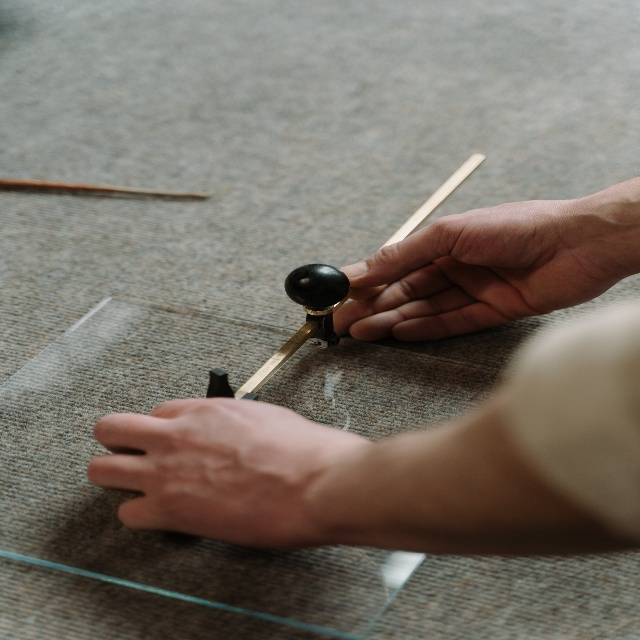Sin_guantes: (84, 396, 358, 554), (332, 198, 614, 345)
